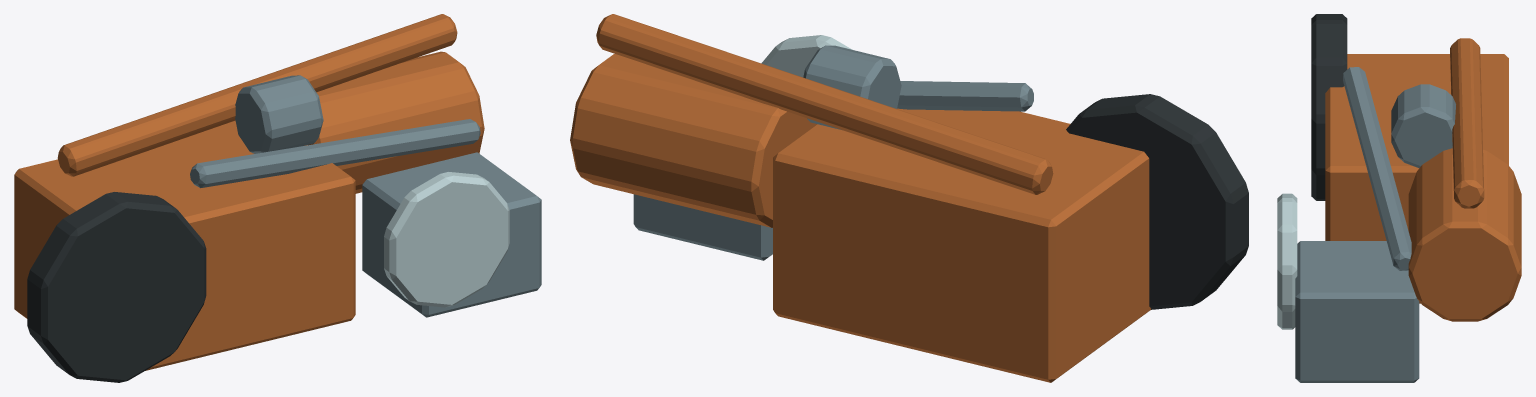
The model's file is FTF_Prop_OldMachineryPartsPile_Large_3m.glb.
The picture shows the model from 3 angles, left to right: view 1: azimuth 30°, elevation 25°; view 2: azimuth 150°, elevation 25°; view 3: azimuth 270°, elevation 25°; orthographic projection. The views are drawn at different scales.
Parts seen in each view (by area): view 1: FTF_Prop_OldMachineryPartsPile_Large_3m_Mesh; view 2: FTF_Prop_OldMachineryPartsPile_Large_3m_Mesh; view 3: FTF_Prop_OldMachineryPartsPile_Large_3m_Mesh.
Boxes of the visible parts, bbox=[...] form: FTF_Prop_OldMachineryPartsPile_Large_3m_Mesh: bbox=[14, 14, 541, 382]; FTF_Prop_OldMachineryPartsPile_Large_3m_Mesh: bbox=[570, 14, 1248, 382]; FTF_Prop_OldMachineryPartsPile_Large_3m_Mesh: bbox=[1277, 14, 1521, 382].
Size of the model in its own units: 2.73 by 1.11 by 1.22.
